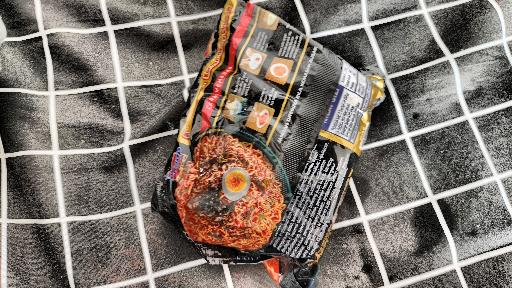mie sedap: (147, 0, 386, 283)
